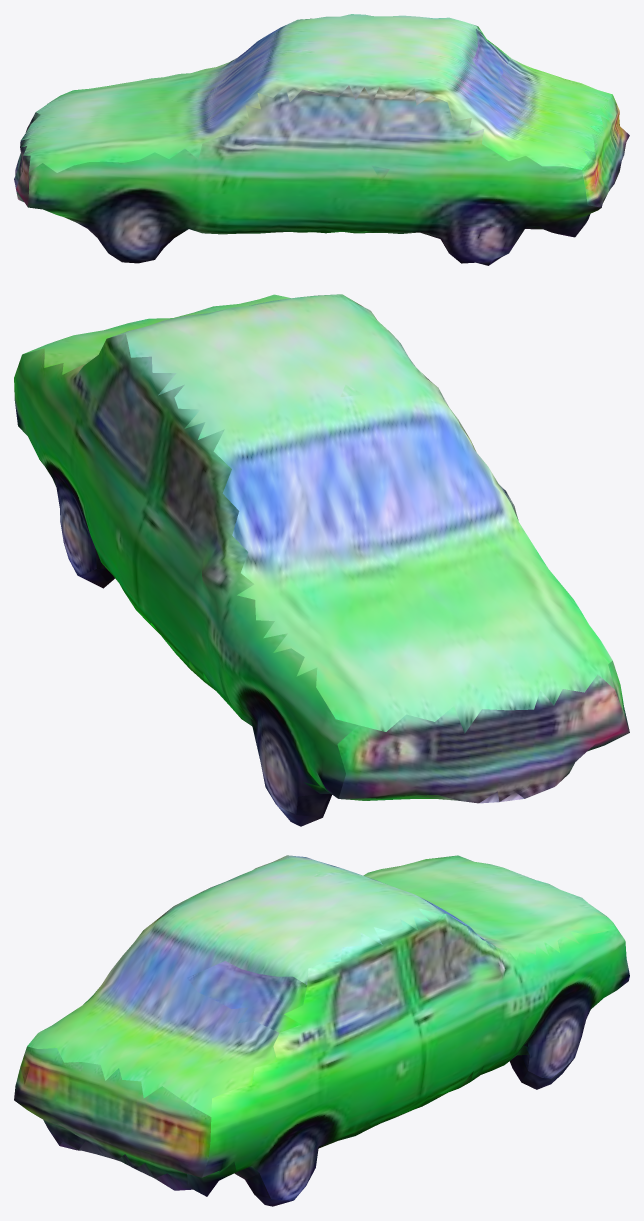
Rendered from dacie_00003_.glb.
3 renders of one model, top to bottom at view 1: azimuth 30°, elevation 25°; view 2: azimuth 150°, elevation 25°; view 3: azimuth 270°, elevation 25°, orthographic. The views are drawn at different scales.
Parts seen in each view (by area): view 1: world; view 2: world; view 3: world.
Part boxes in pixels (x1,y1,x2,y2): world: (14,14,629,265); world: (14,294,629,826); world: (14,855,629,1206).
Size of the model in its own units: 0.9325 by 0.365 by 0.8192.
1 material, 1 textured.
